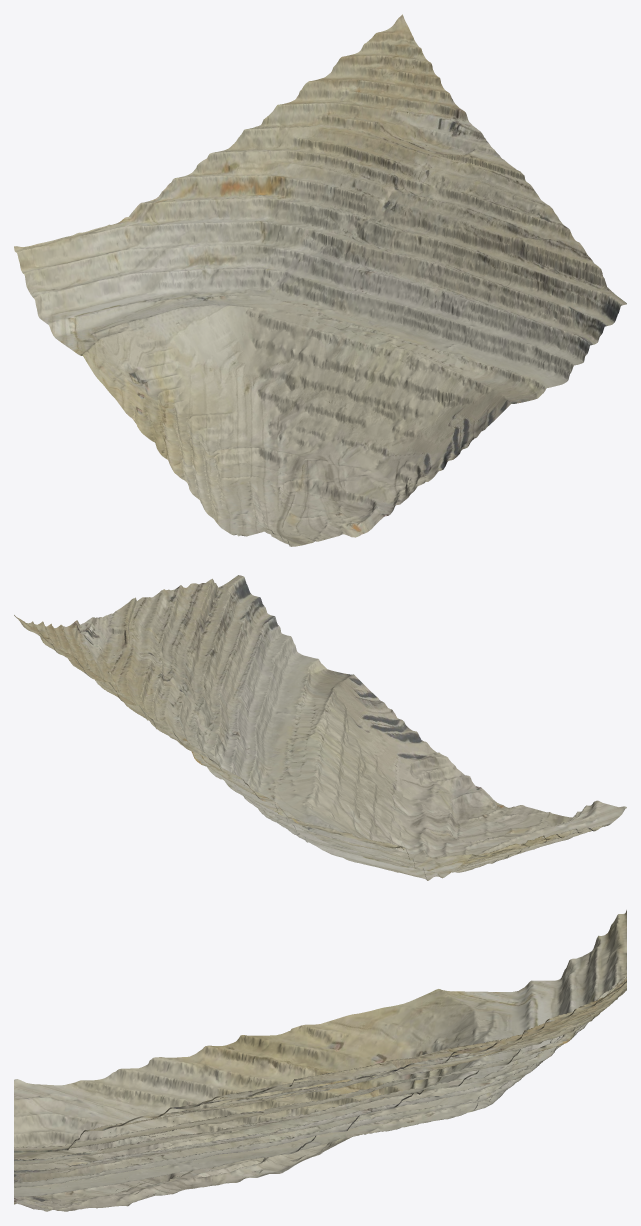
The picture shows the model from 3 angles, top to bottom: view 1: azimuth 30°, elevation 25°; view 2: azimuth 150°, elevation 25°; view 3: azimuth 270°, elevation 25°; orthographic projection. The views are drawn at different scales.
Parts seen in each view (by area): view 1: l2-2-2; view 2: l2-2-2; view 3: l2-2-2.
Part boxes in pixels (box(x1,y1,x2,y2)): l2-2-2: box(14, 14, 626, 546); l2-2-2: box(14, 575, 626, 880); l2-2-2: box(14, 910, 626, 1211).
Bounding box in the file's own units: 768 × 553 × 768.
Materials: 1 (1 with a texture image).
